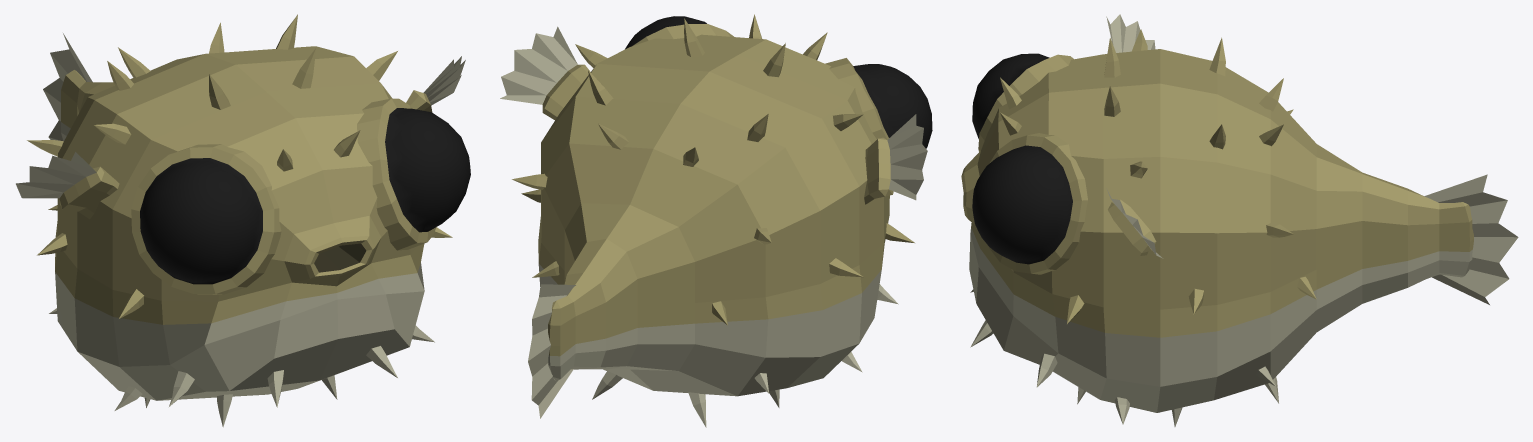
The model's file is q_puffer.fbx.
3 views of the same model, side by side, from view 1: azimuth 30°, elevation 25°; view 2: azimuth 150°, elevation 25°; view 3: azimuth 270°, elevation 25° (orthographic). The views are drawn at different scales.
Visible parts, largest first — view 1: q_puffer; view 2: q_puffer; view 3: q_puffer.
Part boxes in pixels (bbox=[...]): q_puffer: bbox=[16, 14, 470, 427]; q_puffer: bbox=[500, 14, 932, 427]; q_puffer: bbox=[961, 14, 1518, 426].
Size of the model in its own units: 0.8619 by 0.6526 by 1.
